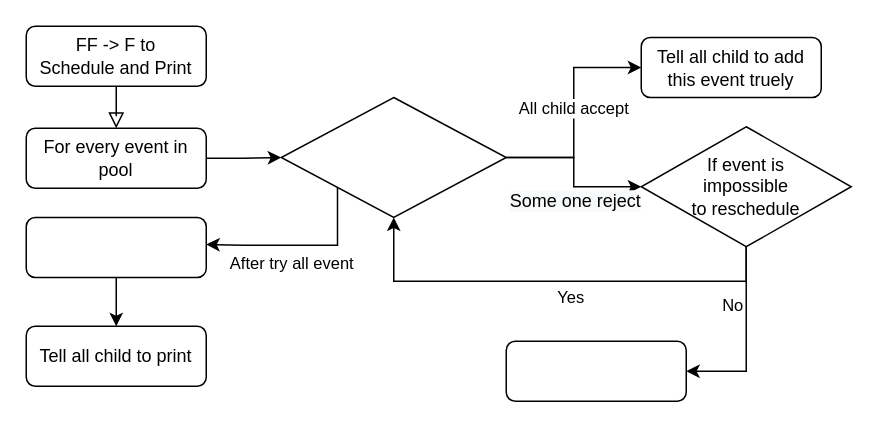
Image size: 878x428. Some labels were removed from this diagram. The shapes that lost their labels are listed below. From the top down, each one's centre as x and y in pixels, then its label:
point 393,157: tell all child to try to add this event
point 115,247: Print all events arrangement
point 595,370: Mark event as reject
